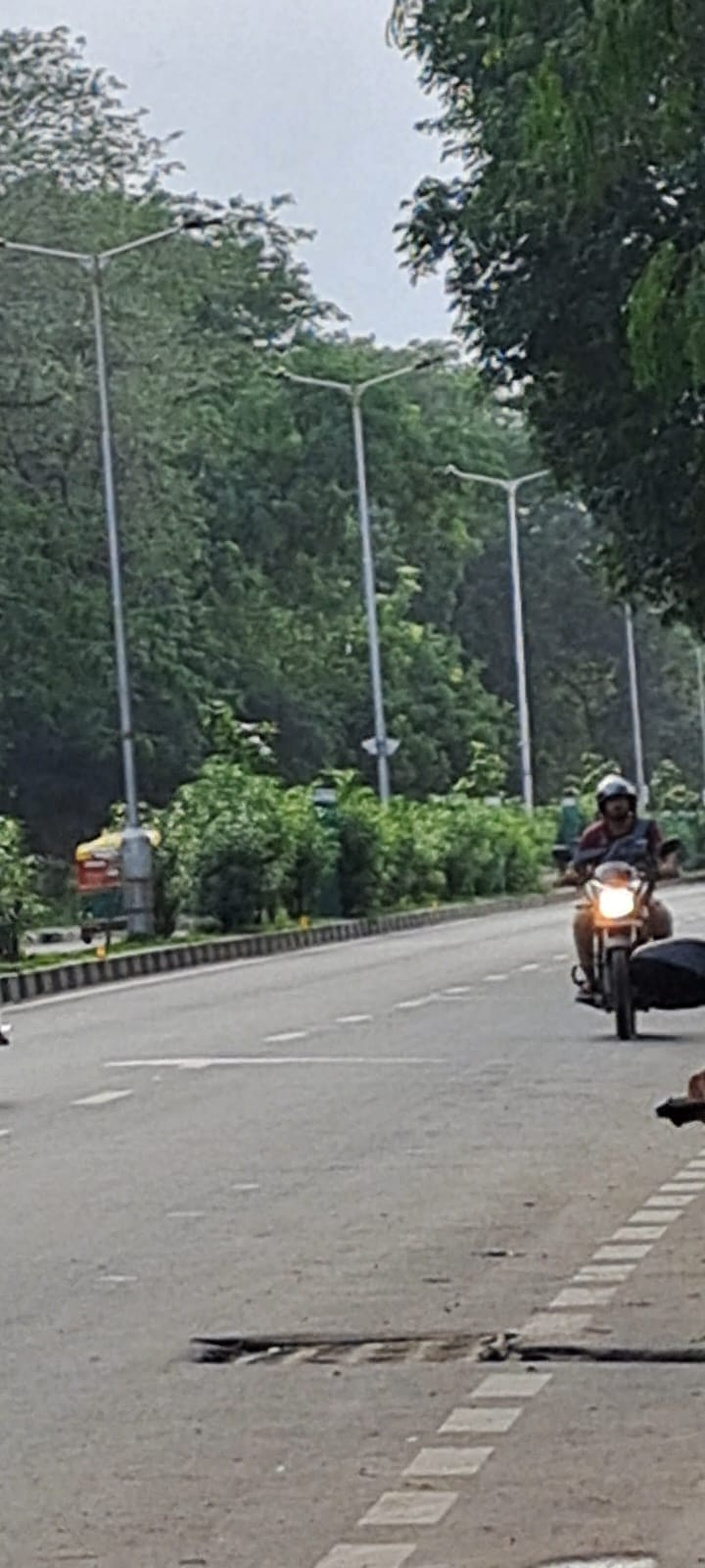BikeWithRider: (518, 745, 701, 1057)
Helmet: (576, 765, 646, 840)
